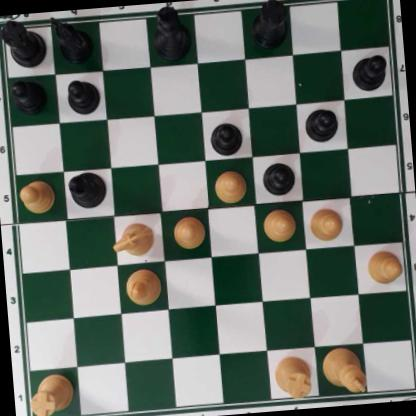black-bishop: (68, 169, 108, 210)
black-king: (150, 4, 192, 65)
black-knight: (49, 15, 94, 63)
black-pawn: (7, 76, 49, 117), (350, 52, 389, 93), (63, 78, 103, 116), (208, 118, 245, 156), (303, 105, 339, 143), (261, 159, 296, 196)
black-rook: (0, 14, 47, 69), (247, 0, 291, 49)
white-bishop: (124, 266, 161, 306)
white-king: (321, 344, 367, 397)
white-knight: (113, 219, 156, 260)
white-pawn: (364, 247, 404, 287), (307, 204, 344, 243), (210, 168, 249, 204), (18, 178, 57, 214), (261, 206, 297, 243), (171, 214, 206, 249)
white-rook: (27, 371, 75, 416), (273, 353, 314, 399)
